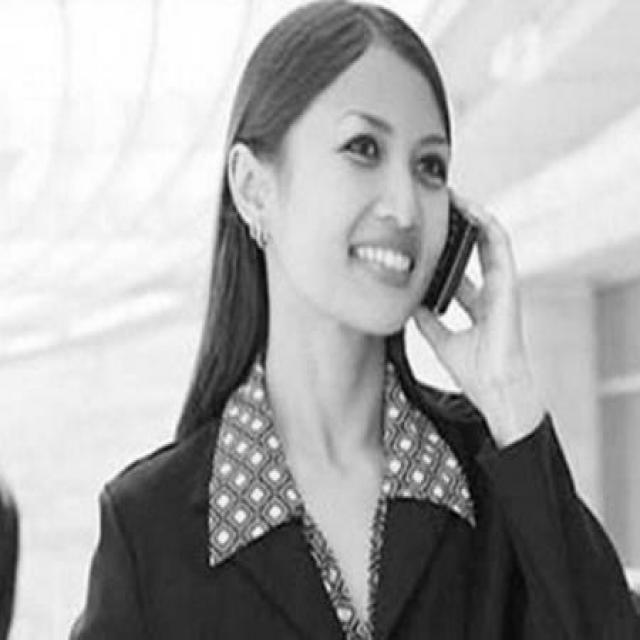phone: (434, 197, 478, 323)
